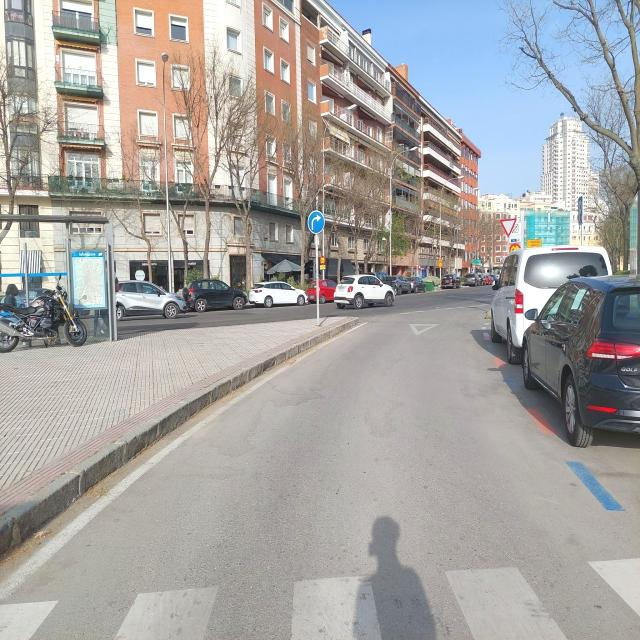bike: (32, 294, 88, 346)
car: (521, 273, 640, 449), (497, 243, 614, 364), (115, 280, 187, 320), (334, 273, 396, 309), (185, 278, 248, 312), (248, 280, 308, 308), (306, 278, 336, 304), (386, 274, 412, 294), (408, 275, 427, 293), (439, 273, 458, 289), (463, 272, 481, 288)
